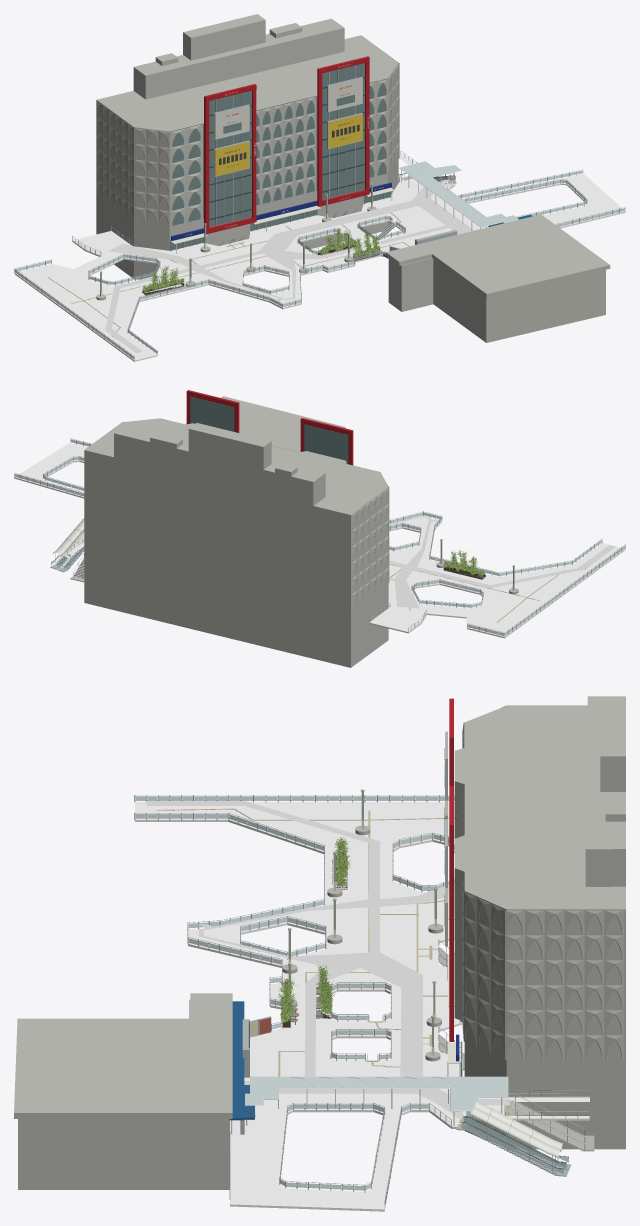
Rendered from teras.glb.
3 renders of one model, top to bottom at view 1: azimuth 30°, elevation 25°; view 2: azimuth 150°, elevation 25°; view 3: azimuth 270°, elevation 25°, orthographic. The views are drawn at different scales.
Visible parts, largest first — view 1: プラザ, デッキ床, 駅, デッキ手すり, rout, 屋根付き通路, 点字ブロック, 植栽｜西側, 植栽｜中央開口・反対側, 植栽｜中央開口・駅側; view 2: プラザ, デッキ床, デッキ手すり, 駅, rout, 植栽｜西側, エスカレーター｜ビックカメラ横・斜め 外側, エスカレーター｜ビックカメラ横・斜め 建物側; view 3: プラザ, デッキ床, 駅, rout, デッキ手すり, 屋根付き通路, エスカレーター｜ビックカメラ横・斜め 外側, エスカレーター｜ビックカメラ横・斜め 建物側, 点字ブロック, 階段｜ビックカメラ横・建物沿い.
Part boxes in pixels (x1,y1,x2,y2): プラザ: [96, 14, 399, 279]; デッキ床: [14, 155, 625, 361]; 駅: [383, 214, 610, 342]; デッキ手すり: [14, 151, 625, 360]; rout: [105, 174, 473, 352]; 屋根付き通路: [399, 161, 518, 230]; 点字ブロック: [47, 212, 409, 352]; 植栽｜西側: [142, 265, 184, 295]; 植栽｜中央開口・反対側: [352, 232, 380, 260]; 植栽｜中央開口・駅側: [318, 228, 356, 255]; プラザ: [84, 390, 389, 667]; デッキ床: [14, 443, 625, 638]; デッキ手すり: [14, 438, 625, 637]; 駅: [185, 396, 345, 452]; rout: [389, 515, 615, 608]; 植栽｜西側: [443, 550, 485, 579]; エスカレーター｜ビックカメラ横・斜め 外側: [50, 518, 84, 569]; エスカレーター｜ビックカメラ横・斜め 建物側: [58, 529, 84, 572]; プラザ: [444, 696, 625, 1149]; デッキ床: [135, 802, 589, 1211]; 駅: [14, 993, 271, 1189]; rout: [146, 801, 509, 1119]; デッキ手すり: [134, 795, 590, 1206]; 屋根付き通路: [245, 1076, 508, 1126]; エスカレーター｜ビックカメラ横・斜め 外側: [456, 1107, 568, 1176]; エスカレーター｜ビックカメラ横・斜め 建物側: [459, 1101, 571, 1170]; 点字ブロック: [156, 808, 454, 1076]; 階段｜ビックカメラ横・建物沿い: [504, 1094, 594, 1151].
Size of the model in its own units: 20.45 by 7.33 by 12.97.
